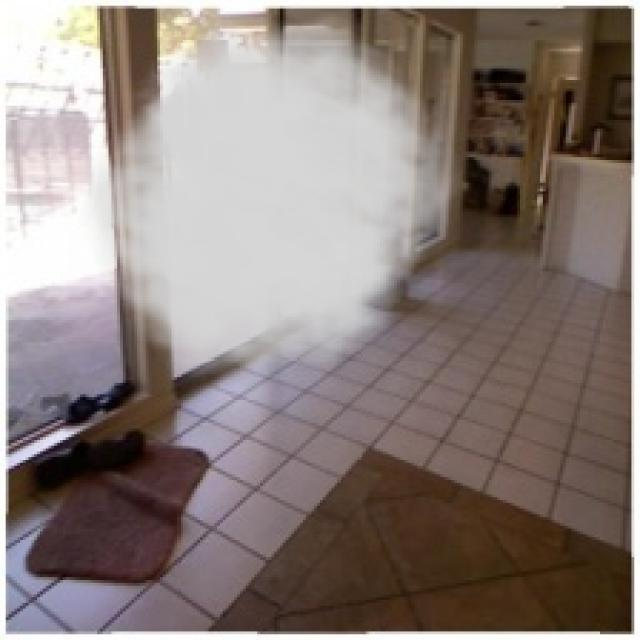Smoke: (69, 12, 468, 394)
